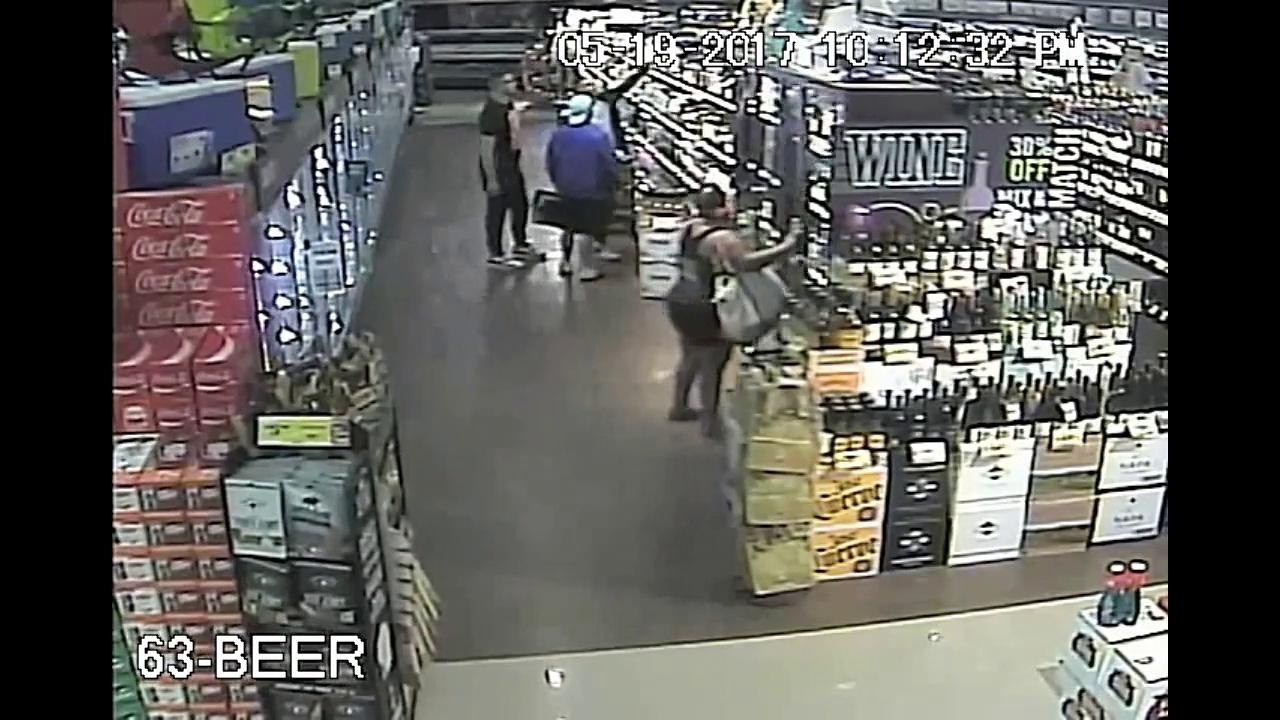Customer-Bagpack: (705, 258, 781, 341)
Regular: (647, 153, 849, 458), (463, 35, 580, 259), (554, 83, 628, 232)
